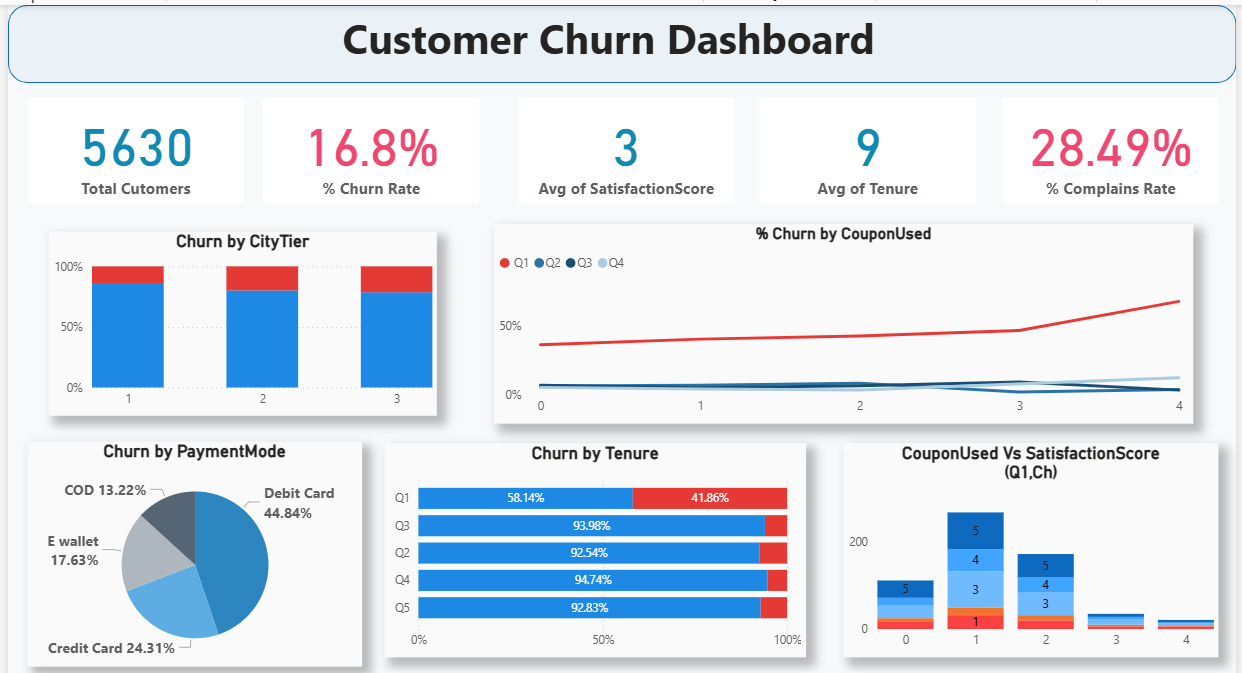

The dashboard page shown, as its layout file describes it:
{"tool":"powerbi","page":{"name":"Page 1","canvas":[1280,720],"ordinal":0},"visuals":[{"type":"card","fields":{"Values":["CountNonNull(E Comm.CustomerID)"]},"box":[20.3,97.3,225.1,109.4],"z":0},{"type":"card","fields":{"Values":["E Comm.% Churn Rate"]},"box":[265.7,97.3,225.1,109.4],"z":1000},{"type":"card","fields":{"Values":["Avg(E Comm.SatisfactionScore)"]},"box":[531.4,97.3,225.1,109.4],"z":2000},{"type":"card","fields":{"Values":["Median(E Comm.Tenure)"]},"box":[783.1,97.3,225.1,109.4],"z":3000},{"type":"card","fields":{"Values":["E Comm.% Complains Rate"]},"box":[1036.3,97.3,225.1,109.4],"z":4000},{"type":"hundredPercentStackedColumnChart","title":"Churn by CityTier ","fields":{"Category":["E Comm.CityTier"],"Y":["CountNonNull(E Comm.Churn)"],"Series":["E Comm.Churn"]},"box":[42.2,236,404.8,192.2],"z":5000},{"type":"pieChart","title":"Churn by PaymentMode ","fields":{"Category":["E Comm.PreferredPaymentMode"],"Y":["CountNonNull(E Comm.CustomerID)"]},"box":[20.3,454.8,348.5,234.4],"z":6000},{"type":"hundredPercentStackedBarChart","title":"Churn by Tenure ","fields":{"Category":["E Comm.Tenure bins"],"Y":["CountNonNull(E Comm.Churn)"],"Series":["E Comm.Churn"]},"box":[392.3,456.4,439.2,223.5],"z":7000},{"type":"columnChart","title":"CouponUsed Vs SatisfactionScore (Q1,Ch)","fields":{"Category":["E Comm.CouponUsed"],"Y":["CountNonNull(E Comm.CustomerID)"],"Series":["E Comm.SatisfactionScore"]},"box":[870.6,456.4,390.7,223.5],"z":8000},{"type":"lineChart","title":"% Churn by CouponUsed ","fields":{"Category":["E Comm.CouponUsed"],"Series":["E Comm.Tenure bins"],"Y":["E Comm.% Churn Rate"]},"box":[506.4,228.2,728.4,207.9],"z":9000},{"type":"shape","box":[0,0,1280.1,81.3],"z":10000},{"type":"textbox","box":[284.5,0,683,81.3],"z":11000}]}

Visuals, with their boxes on the page's 1280x720 design canvas (x1, y1, x2, y2). These are canvas units, not pixel positions in the 1242x673 screenshot, which may show the page scaled, cropped or inside an application window:
card - CountNonNull(E Comm.CustomerID): bbox=(20, 97, 245, 207)
card - E Comm.% Churn Rate: bbox=(266, 97, 491, 207)
card - Avg(E Comm.SatisfactionScore): bbox=(531, 97, 756, 207)
card - Median(E Comm.Tenure): bbox=(783, 97, 1008, 207)
card - E Comm.% Complains Rate: bbox=(1036, 97, 1261, 207)
"Churn by CityTier " hundredPercentStackedColumnChart: bbox=(42, 236, 447, 428)
"Churn by PaymentMode " pieChart: bbox=(20, 455, 369, 689)
"Churn by Tenure " hundredPercentStackedBarChart: bbox=(392, 456, 832, 680)
"CouponUsed Vs SatisfactionScore (Q1,Ch)" columnChart: bbox=(871, 456, 1261, 680)
"% Churn by CouponUsed " lineChart: bbox=(506, 228, 1235, 436)
shape: bbox=(0, 0, 1280, 81)
textbox: bbox=(284, 0, 968, 81)
